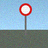sign: (19, 3, 32, 35)
